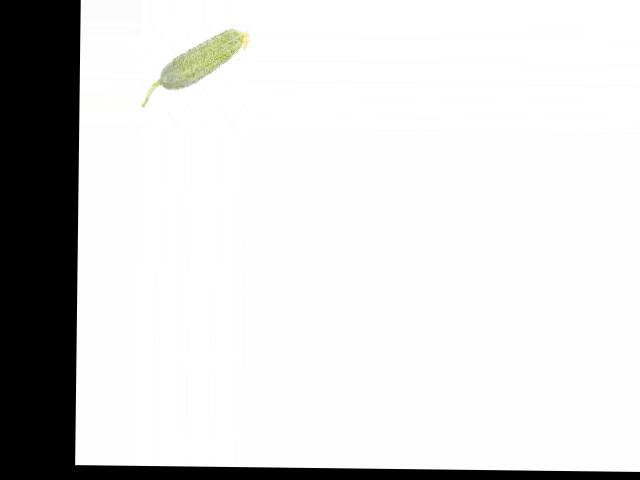cucumber: (142, 27, 251, 108)
